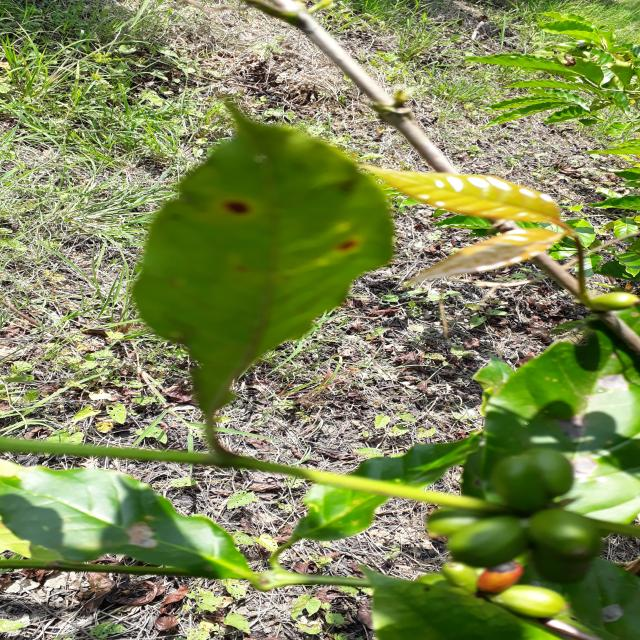Enfermedad-Roya: (130, 105, 393, 424)
